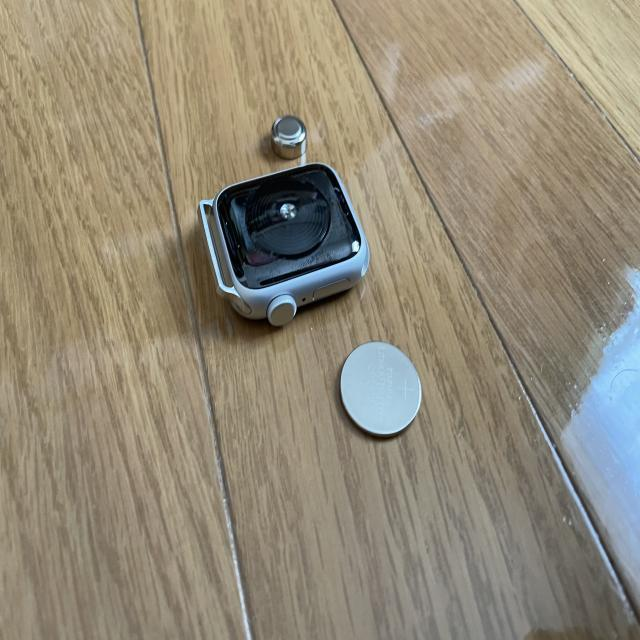COIN: (339, 341, 422, 438), (270, 114, 308, 160)
